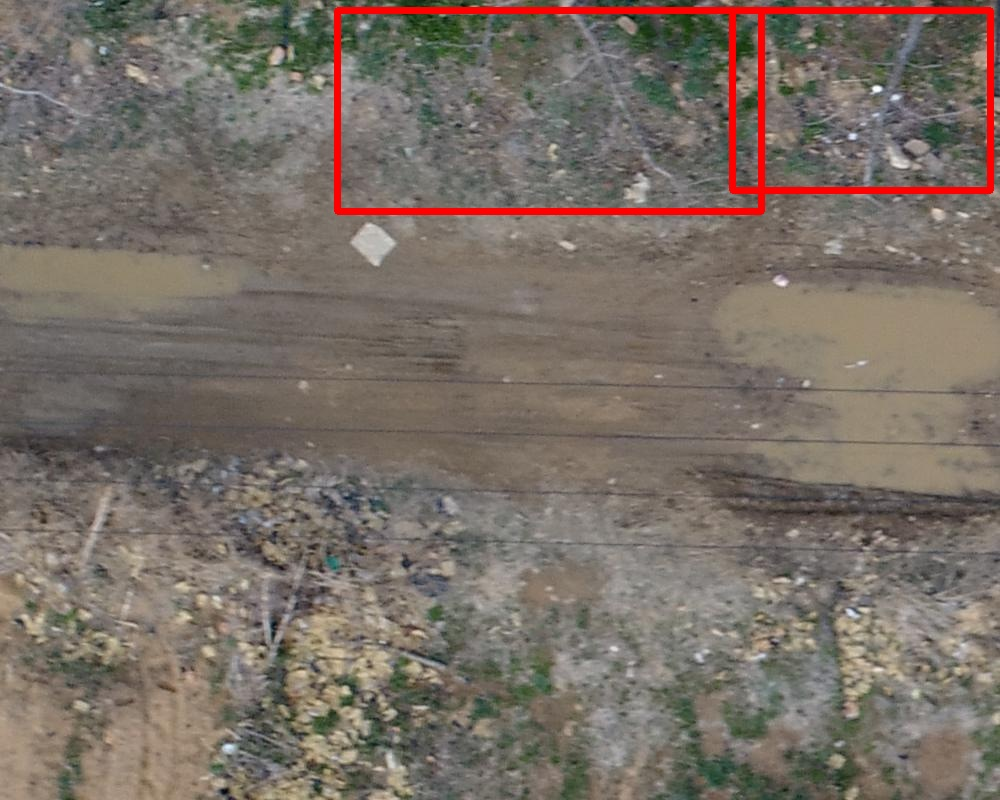apple: (337, 10, 761, 211), (732, 10, 990, 190)
